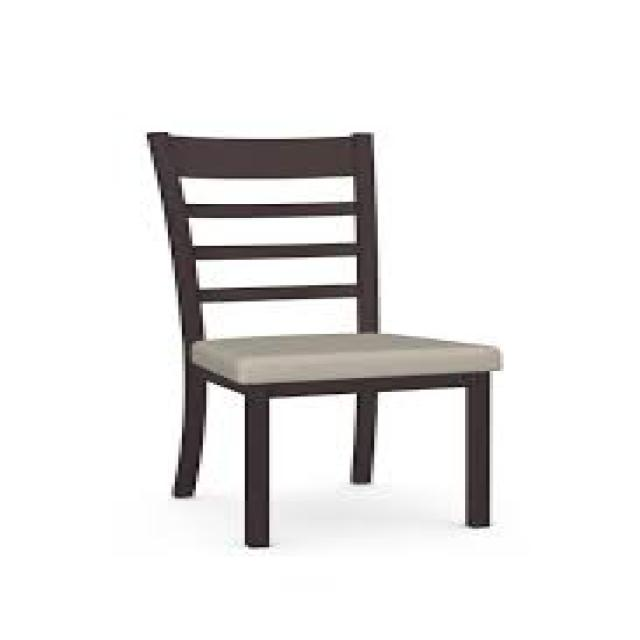chair: (62, 97, 611, 626)
